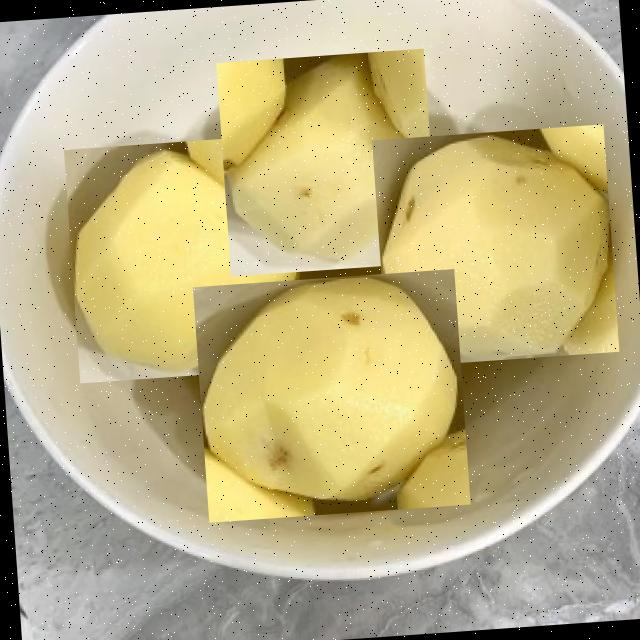Potato: (192, 268, 470, 522), (64, 134, 306, 383), (372, 124, 618, 368), (216, 48, 438, 276)
